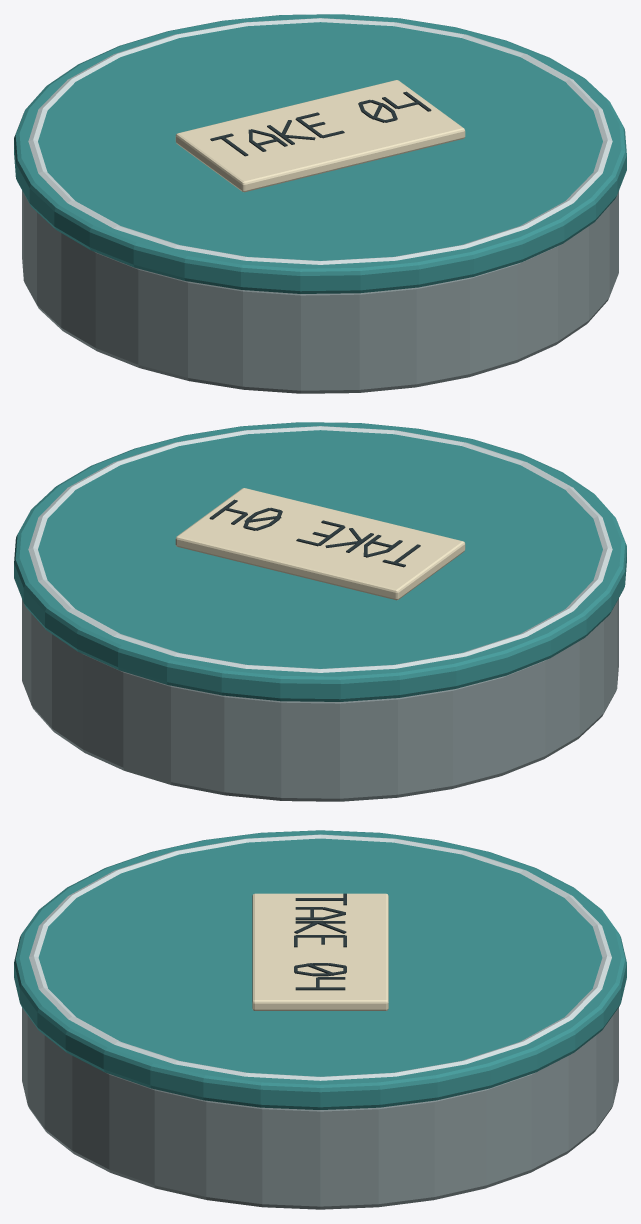
File: P057_film_can.glb
3 views of the same model, one above another, from view 1: azimuth 30°, elevation 25°; view 2: azimuth 150°, elevation 25°; view 3: azimuth 270°, elevation 25° (orthographic).
Visible parts, largest first — view 1: P057_lid_002, P057_can_001, P057_label_003, P057_rim_005, P057_name_004; view 2: P057_lid_002, P057_can_001, P057_label_003, P057_rim_005, P057_name_004; view 3: P057_lid_002, P057_can_001, P057_label_003, P057_rim_005, P057_name_004.
Boxes of the visible parts, x1,y1,x2,y2 form: P057_lid_002: (14, 14, 626, 293); P057_can_001: (22, 190, 618, 393); P057_label_003: (175, 80, 465, 192); P057_rim_005: (28, 18, 612, 264); P057_name_004: (210, 91, 431, 156); P057_lid_002: (14, 422, 626, 701); P057_can_001: (22, 598, 618, 801); P057_label_003: (175, 488, 465, 600); P057_rim_005: (28, 426, 612, 672); P057_name_004: (209, 499, 420, 567); P057_lid_002: (14, 830, 626, 1109); P057_can_001: (22, 1007, 618, 1209); P057_label_003: (252, 893, 388, 1010); P057_rim_005: (29, 834, 611, 1080); P057_name_004: (294, 893, 346, 990).
Bounding box in the file's own units: 0.31 × 0.0808 × 0.31.
